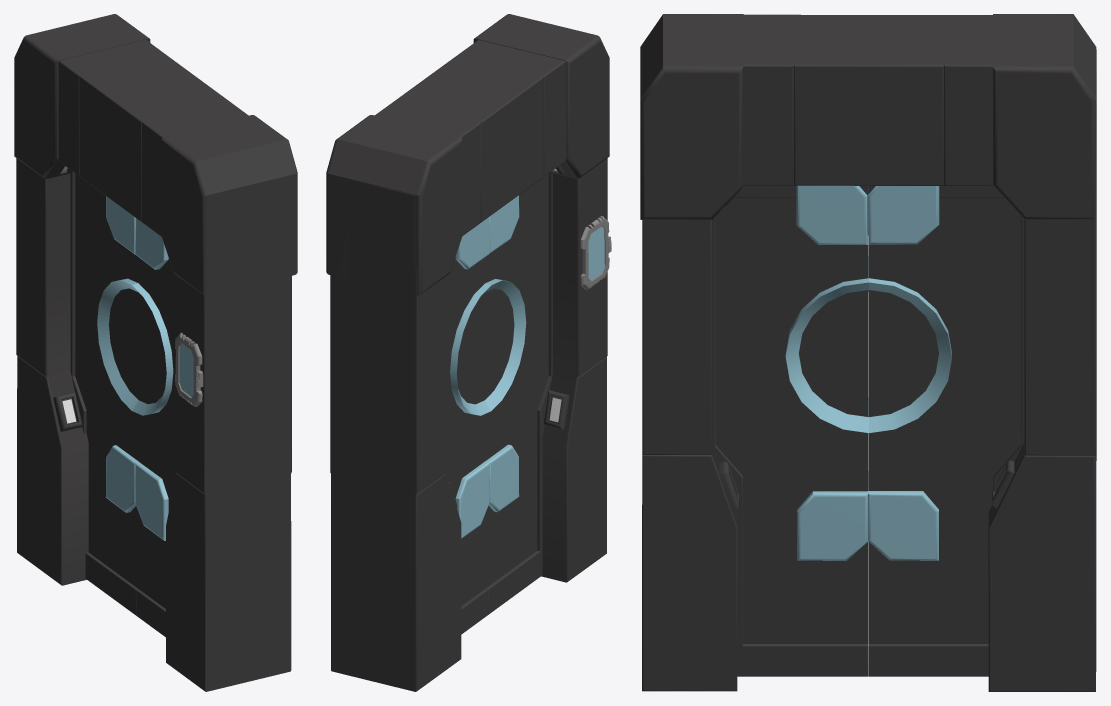
The model's file is GATE-EDIT.fbx.
3 views of the same model, side by side, from view 1: azimuth 30°, elevation 25°; view 2: azimuth 150°, elevation 25°; view 3: azimuth 270°, elevation 25° (orthographic). The views are drawn at different scales.
Visible parts, largest first — view 1: body, pCube22, pCube10, pCube17, pCube18, pCube15 (×2), pPipe2, con, pPipe1, pCube16, pCube14, pCube12; view 2: body, pCube17, pCube18, pCube10, pCube22, pCube15 (×2), pPipe1, con, pPipe2, pCube14, pCube16, pCube12; view 3: body, pCube17, pCube10, pCube22, pCube18, pCube15 (×2), pCube16, pCube14, pPipe1, pPipe2.
Boxes of the visible parts, box(x1,y1,x2,y2) form: body: box(16, 39, 291, 691); pCube22: box(161, 115, 297, 296); pCube10: box(70, 171, 138, 615); pCube17: box(136, 257, 176, 637); pCube18: box(14, 14, 150, 178); pCube15 (×2): box(105, 445, 168, 540); pPipe2: box(97, 278, 138, 410); con: box(175, 332, 203, 406); pPipe1: box(132, 283, 173, 415); pCube16: box(135, 218, 168, 269); pCube14: box(106, 196, 135, 254); pCube12: box(53, 392, 82, 431); body: box(330, 40, 607, 691); pCube17: box(485, 172, 552, 614); pCube18: box(326, 115, 462, 296); pCube10: box(446, 257, 487, 634); pCube22: box(473, 14, 609, 178); pCube15 (×2): box(455, 444, 519, 538); pPipe1: box(485, 279, 526, 410); con: box(580, 216, 611, 290); pPipe2: box(450, 283, 491, 415); pCube14: box(455, 217, 489, 269); pCube16: box(489, 195, 519, 253); pCube12: box(543, 390, 569, 429); body: box(642, 14, 1096, 691); pCube17: box(712, 185, 867, 676); pCube10: box(868, 186, 1024, 676); pCube22: box(640, 14, 743, 219); pCube18: box(993, 14, 1096, 219); pCube15 (×2): box(797, 471, 938, 560); pCube16: box(796, 185, 867, 244); pCube14: box(868, 186, 939, 244); pPipe1: box(785, 256, 868, 432); pPipe2: box(869, 278, 951, 432).
Bounding box in the file's own units: 2.88 × 14.6 × 9.62.
